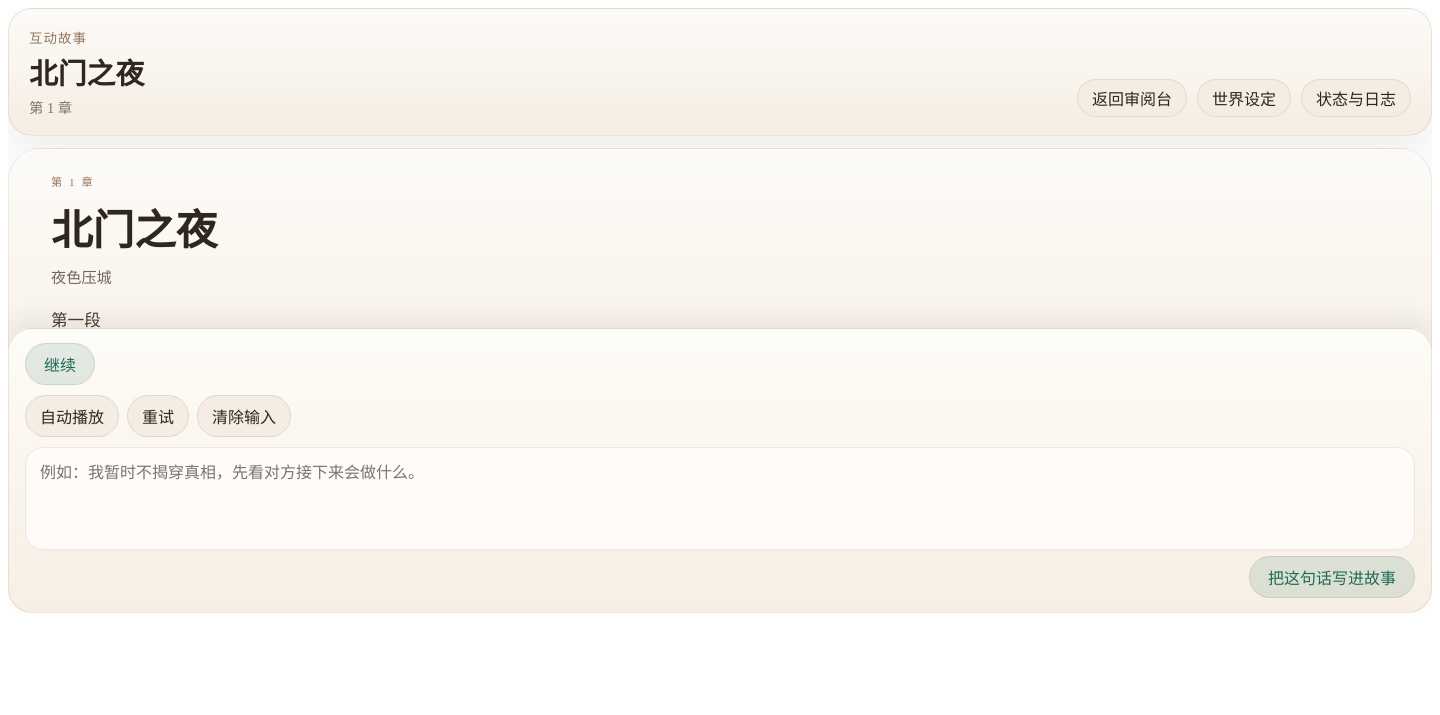
Test: RuntimeStageShell › allows reloading the current snapshot after an in-reader action fails
Expected: the heading "北门之夜" below "互动故事" is shown, left=29, top=51, right=144, bottom=92
Click the button "继续". click: click(60, 364)
box: left=25, top=343, right=95, bottom=385
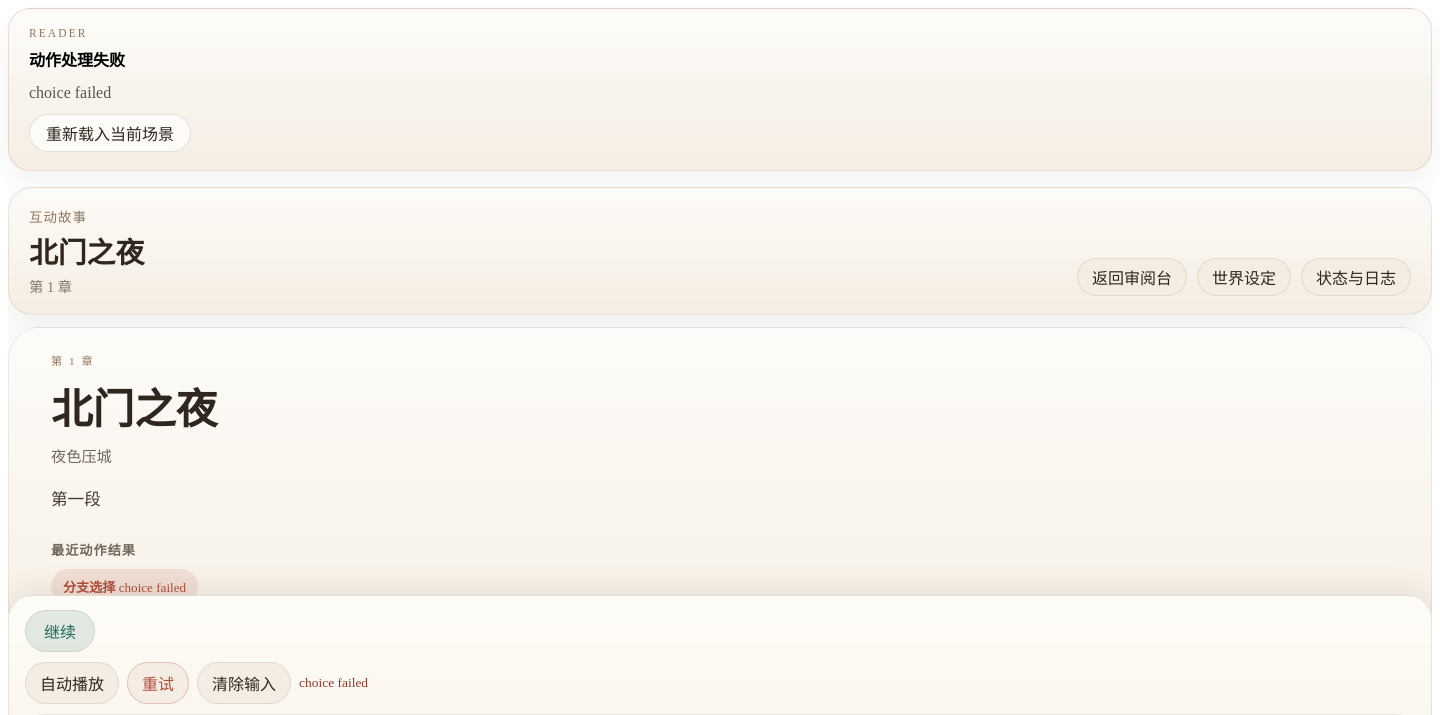
Expected: the text "Reader" is shown, left=29, top=27, right=88, bottom=39
Expected: the text "choice failed" is shown, left=29, top=84, right=111, bottom=101
Click the button "重新载入当前场景". click: click(110, 133)
box: left=29, top=114, right=191, bottom=152
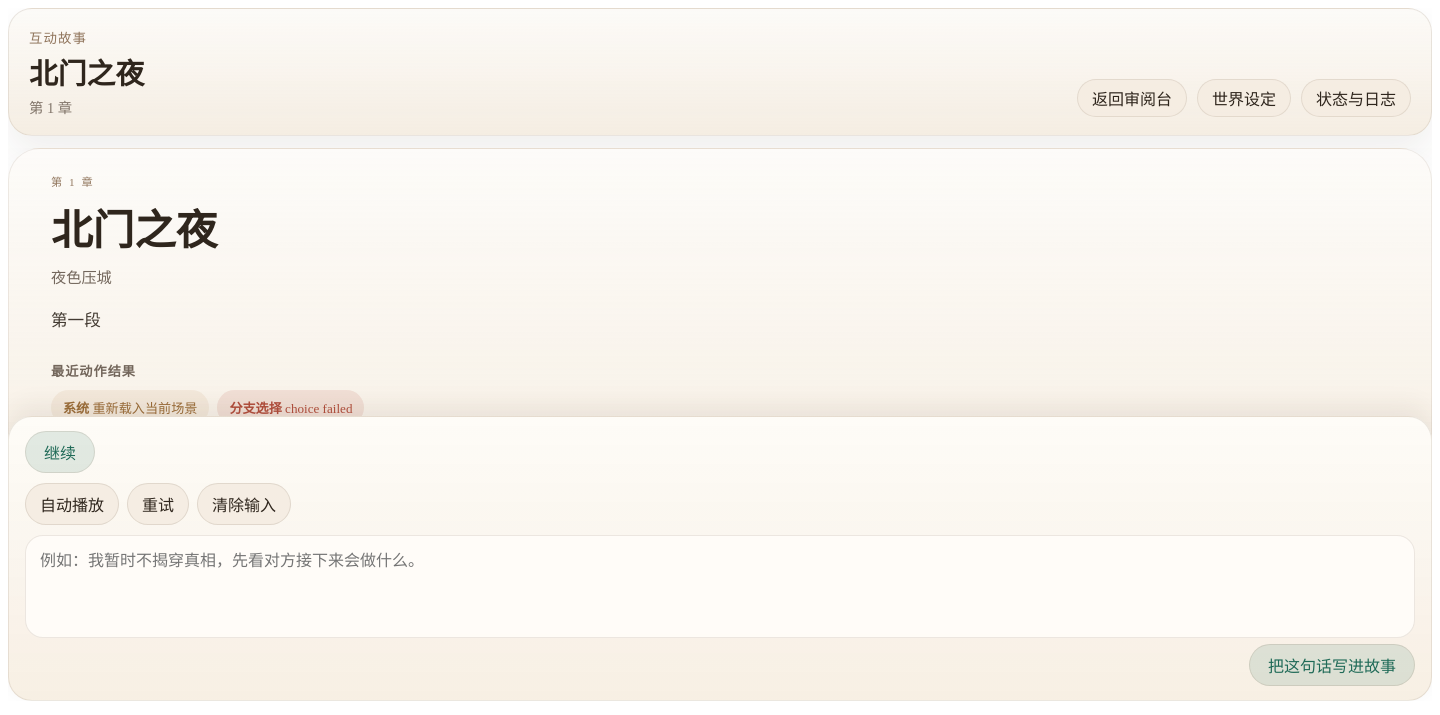
Expected: the element with test id "runtime-feedback-lane" is gone
